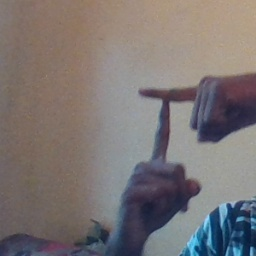T: (112, 73, 227, 191)
